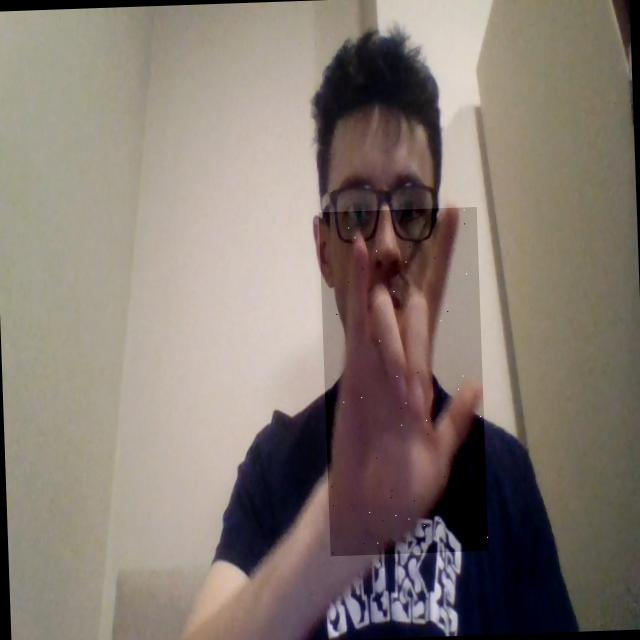iloveyou: (318, 207, 488, 556)
